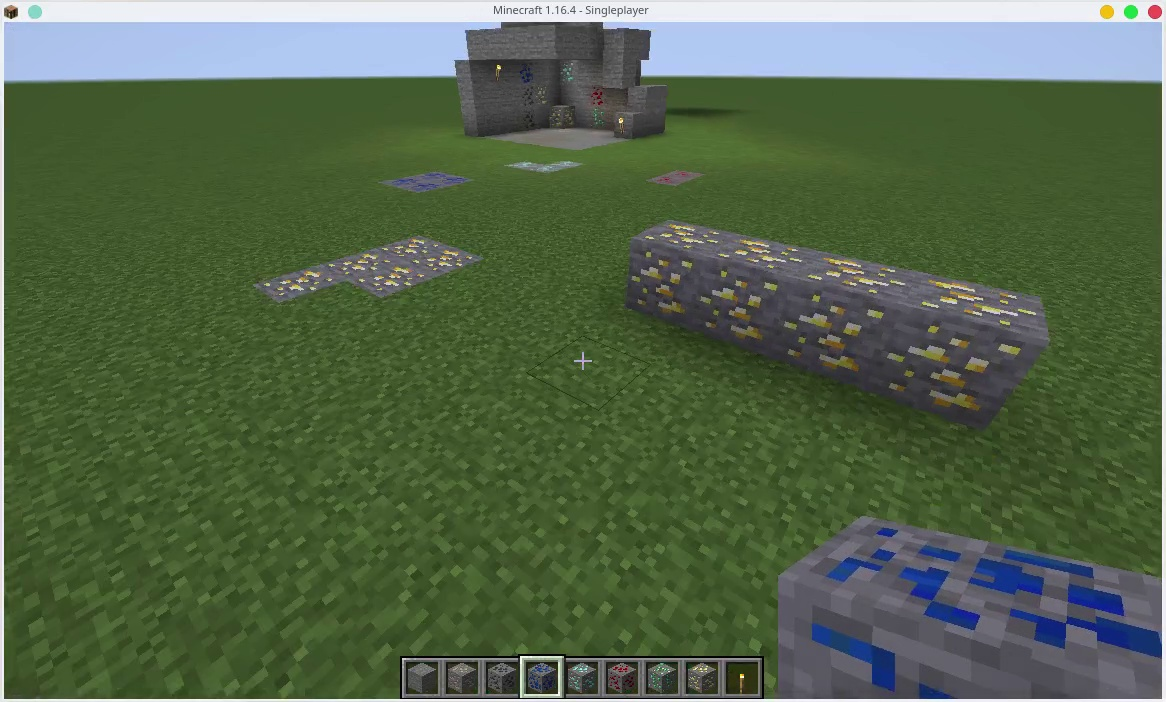gold: (895, 285, 1018, 428), (782, 230, 872, 382), (629, 211, 714, 317), (708, 240, 781, 353), (245, 261, 332, 295), (361, 264, 414, 300), (389, 228, 428, 262), (433, 249, 480, 276), (686, 664, 718, 696), (340, 250, 377, 277), (543, 104, 576, 130), (539, 88, 548, 104)
